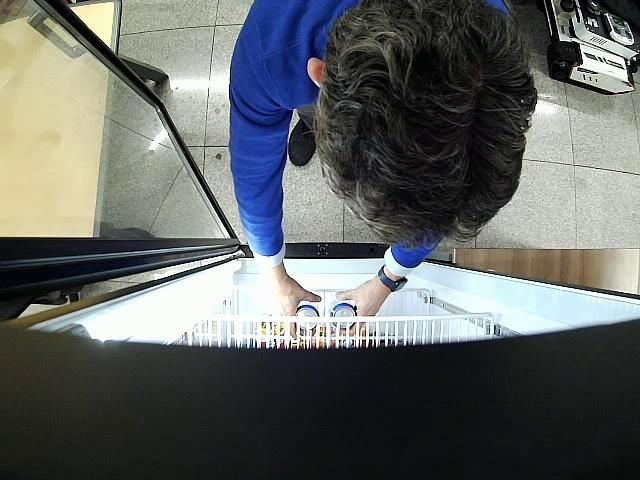00_hand: (265, 272, 322, 339), (331, 283, 385, 336)
13_pocariSweat: (331, 303, 357, 329), (295, 305, 319, 329)
